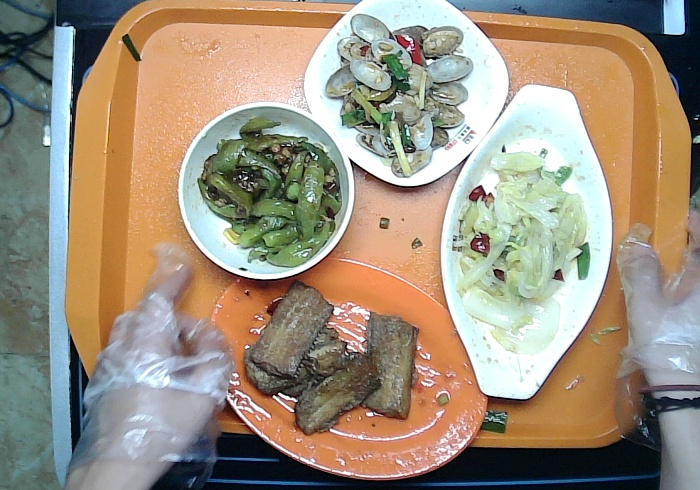NLDX-Bai_Se_Xiao_Fang_Die: (300, 1, 516, 191)
NLDX-Fan_Wan: (174, 97, 362, 283)
NLDX-Ju_Se_Pan: (204, 254, 495, 479)
NLDX-Yu_Pan: (436, 74, 620, 403)
